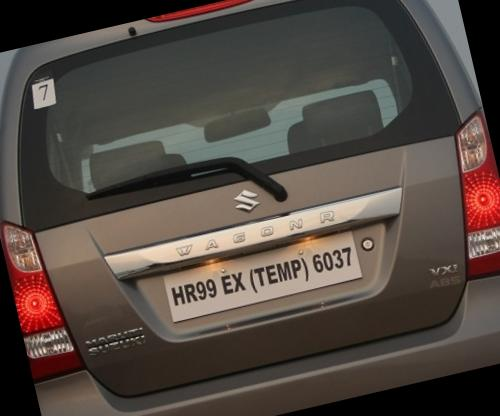plate: (155, 209, 380, 344)
